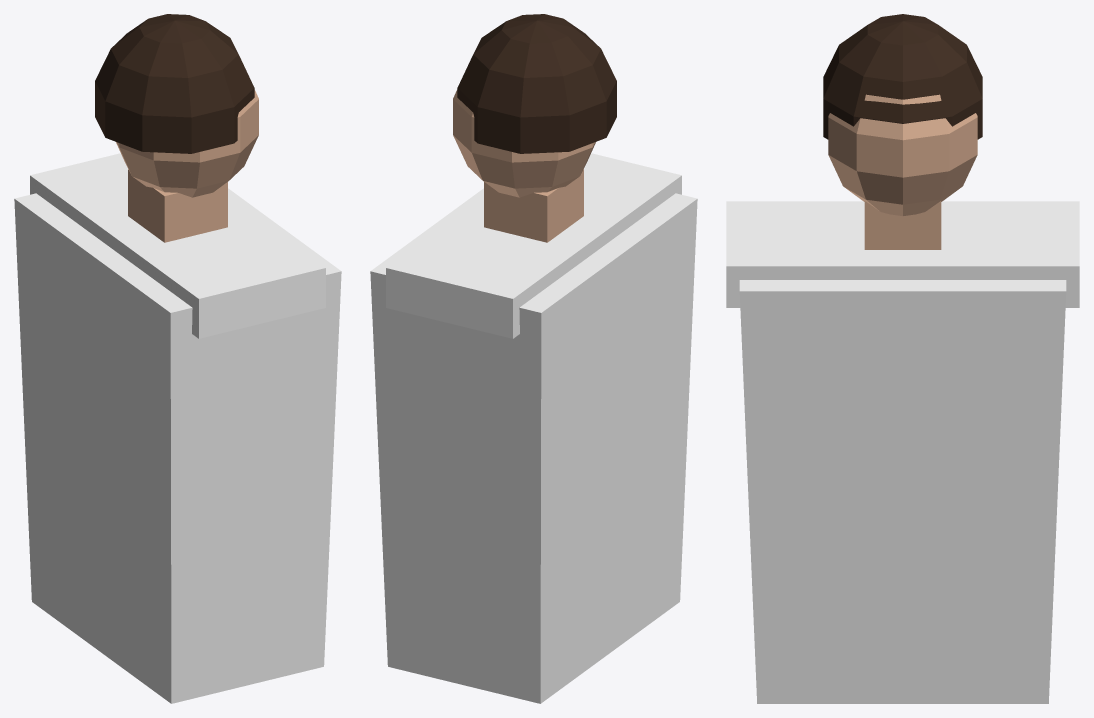
The model's file is body.obj.
3 views of the same model, side by side, from view 1: azimuth 30°, elevation 25°; view 2: azimuth 150°, elevation 25°; view 3: azimuth 270°, elevation 25° (orthographic). The views are drawn at different scales.
Parts seen in each view (by area): view 1: body_CoatPaint, body_Hair, body_Skin; view 2: body_CoatPaint, body_Hair, body_Skin; view 3: body_CoatPaint, body_Skin, body_Hair.
Boxes of the visible parts, left/top/right/bottom form: body_CoatPaint: left=14, top=153, right=341, bottom=703; body_Hair: left=95, top=14, right=254, bottom=153; body_Skin: left=116, top=90, right=258, bottom=242; body_CoatPaint: left=370, top=153, right=697, bottom=703; body_Hair: left=457, top=14, right=616, bottom=153; body_Skin: left=453, top=90, right=595, bottom=242; body_CoatPaint: left=726, top=201, right=1079, bottom=703; body_Skin: left=828, top=94, right=977, bottom=249; body_Hair: left=823, top=14, right=982, bottom=139.
Size of the model in its own units: 0.2688 by 0.9232 by 0.46.
Materials: 3 (3 with a texture image).
